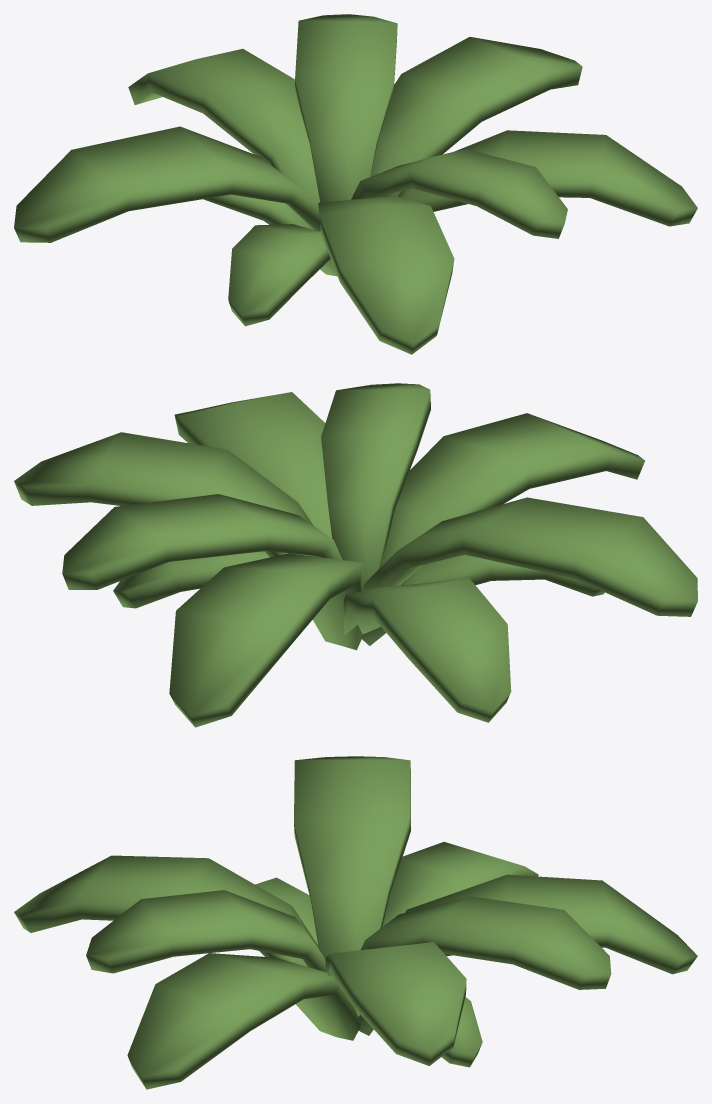
File: SM_Bush.fbx
3 renders of one model, top to bottom at view 1: azimuth 30°, elevation 25°; view 2: azimuth 150°, elevation 25°; view 3: azimuth 270°, elevation 25°, orthographic. The views are drawn at different scales.
Parts seen in each view (by area): view 1: Plane.012; view 2: Plane.012; view 3: Plane.012.
Part boxes in pixels (x1=…): Plane.012: x1=14, y1=14, x2=697, y2=354; Plane.012: x1=14, y1=383, x2=697, y2=727; Plane.012: x1=14, y1=756, x2=697, y2=1089.
Size of the model in its own units: 1278 by 320 by 1273.
